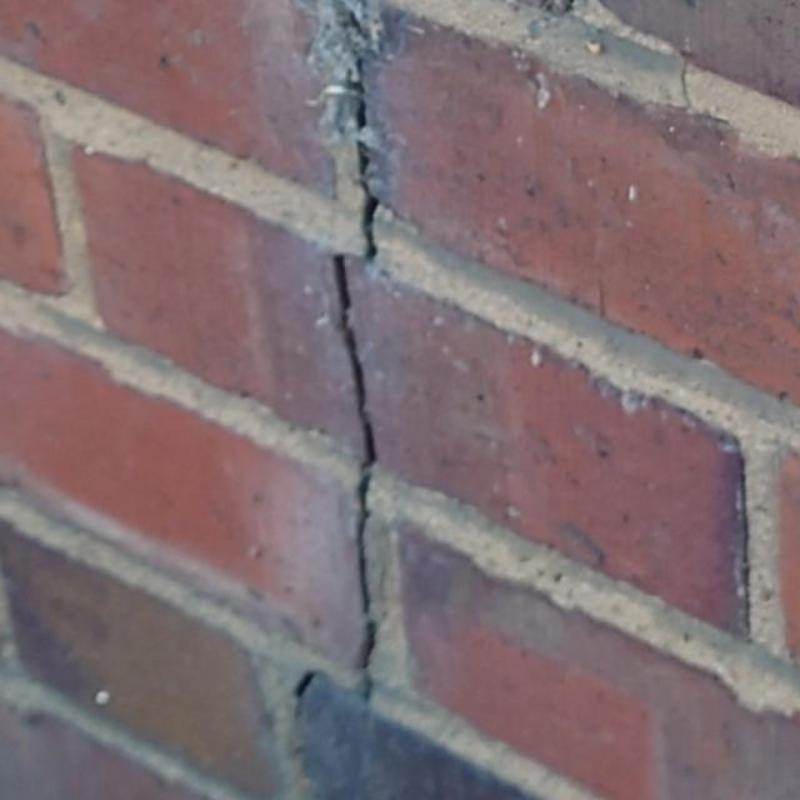pothole: (333, 255, 377, 702), (340, 0, 383, 261), (294, 672, 316, 698), (681, 61, 691, 110)
